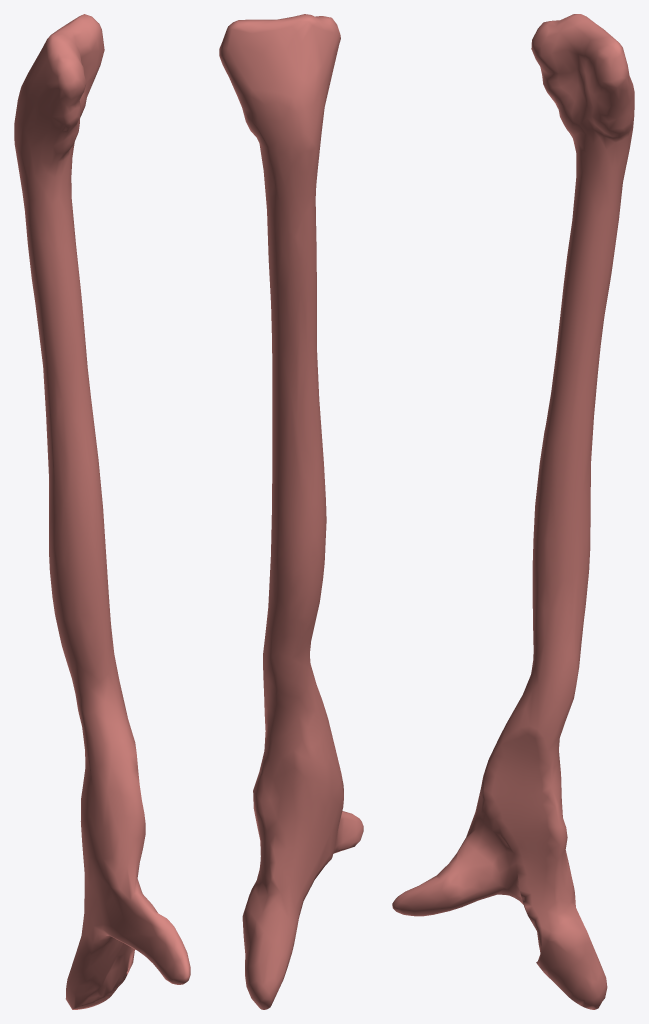
The model's file is fma46670_mm1239.glb.
3 views of the same model, side by side, from view 1: azimuth 30°, elevation 25°; view 2: azimuth 150°, elevation 25°; view 3: azimuth 270°, elevation 25° (orthographic).
Parts seen in each view (by area): view 1: FMA46670_MM1239; view 2: FMA46670_MM1239; view 3: FMA46670_MM1239.
Part boxes in pixels (x1,y1,x2,y2): FMA46670_MM1239: (14,14,190,1009); FMA46670_MM1239: (219,14,363,1009); FMA46670_MM1239: (392,14,634,1009).
Bounding box in the file's own units: 0.0051 × 0.0527 × 0.0118.
